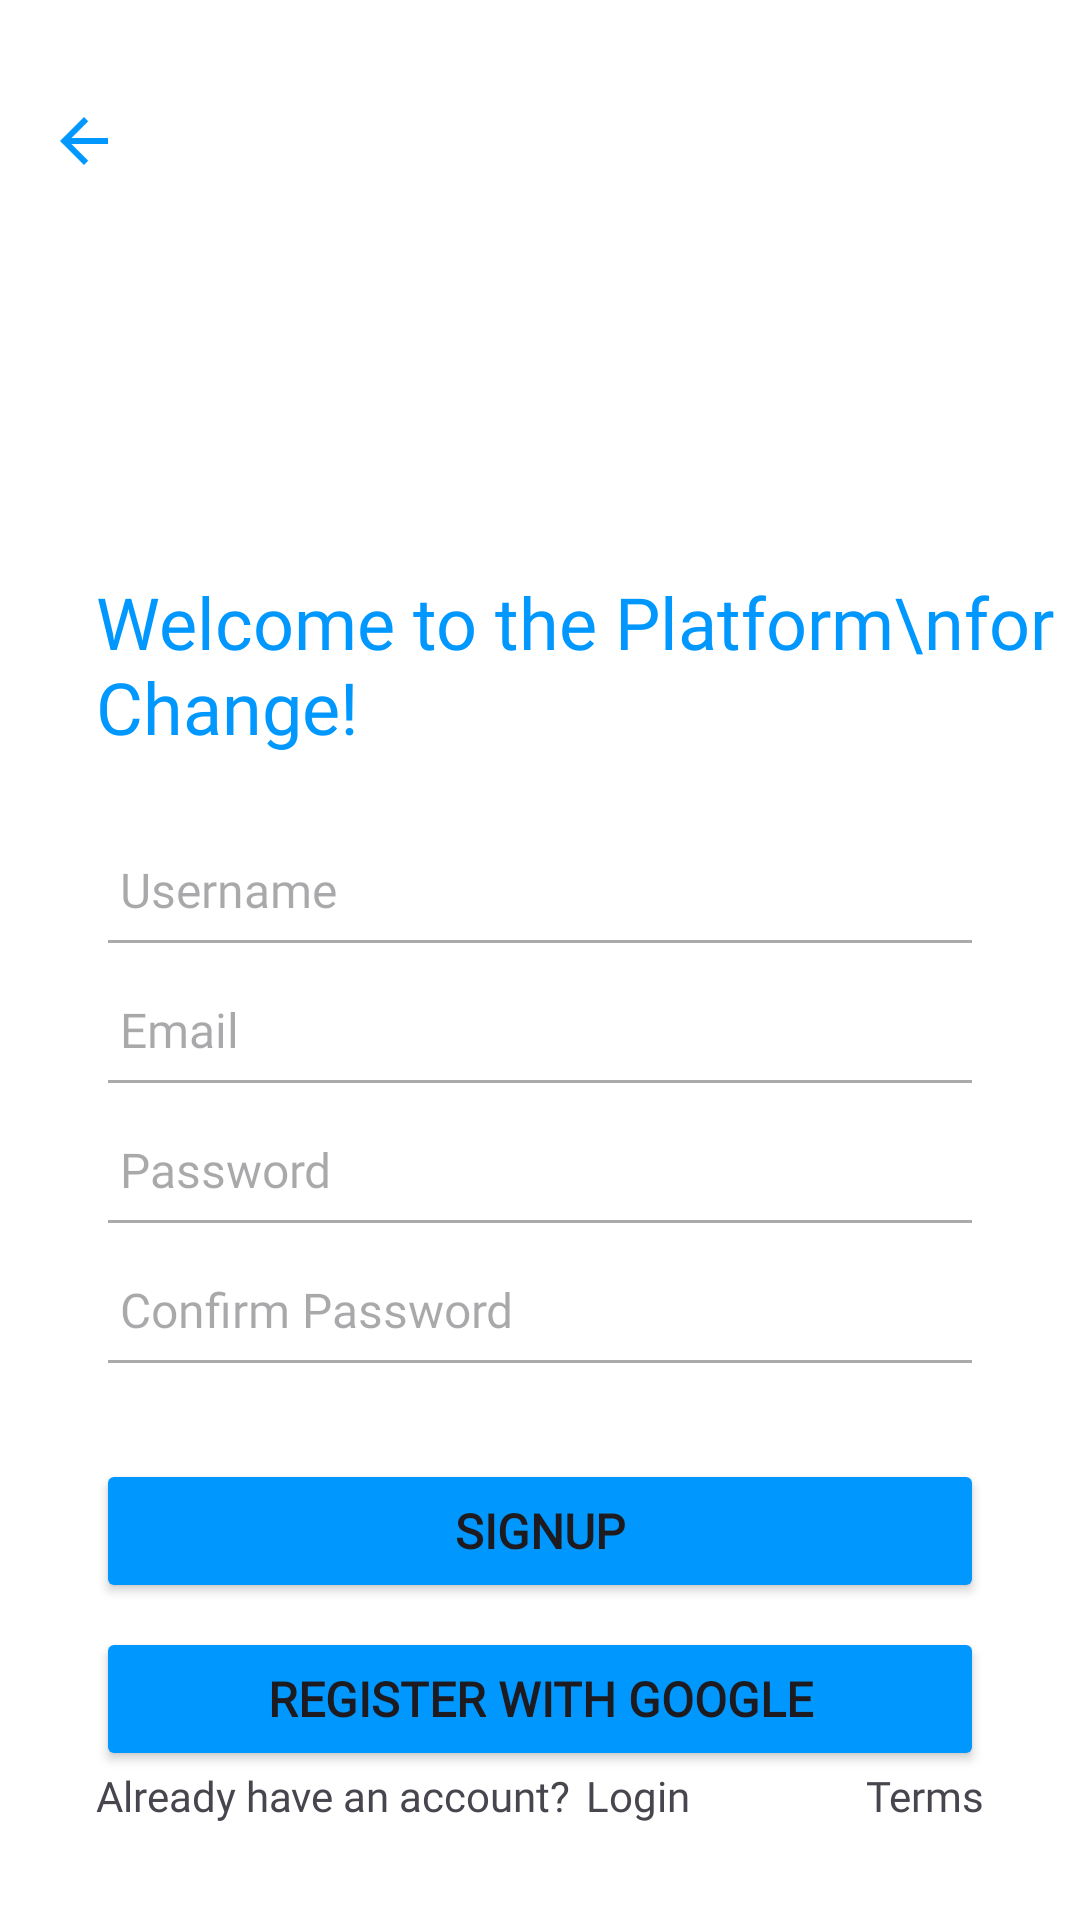

Named icons in this screenshot (1080 x 1920) and their centers, [x,y]:
arrow back: [84,141]
